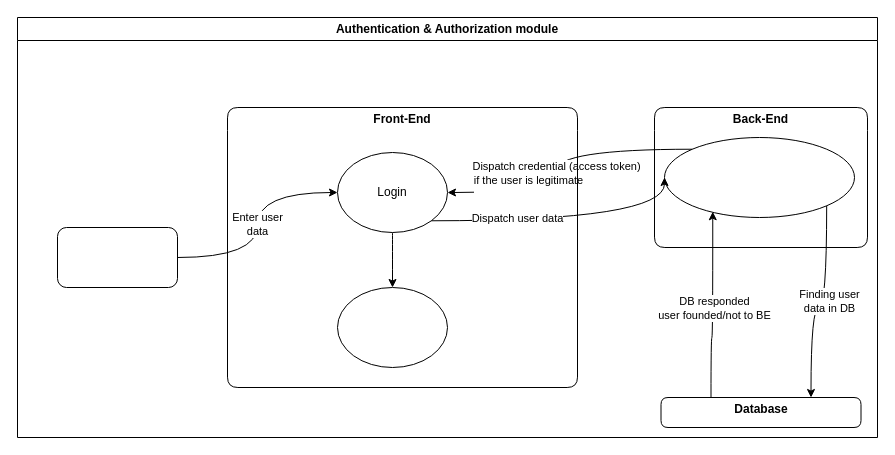
Image size: 895x455. Some labels were removed from this diagram. The shapes that lost their labels are listed below. From the top down, each one's centre as x and y in pixels, then its label:
At pixel 759 177: "Verify user".
At pixel 117 257: "Customer".
At pixel 392 327: "store credentials to local storage".
